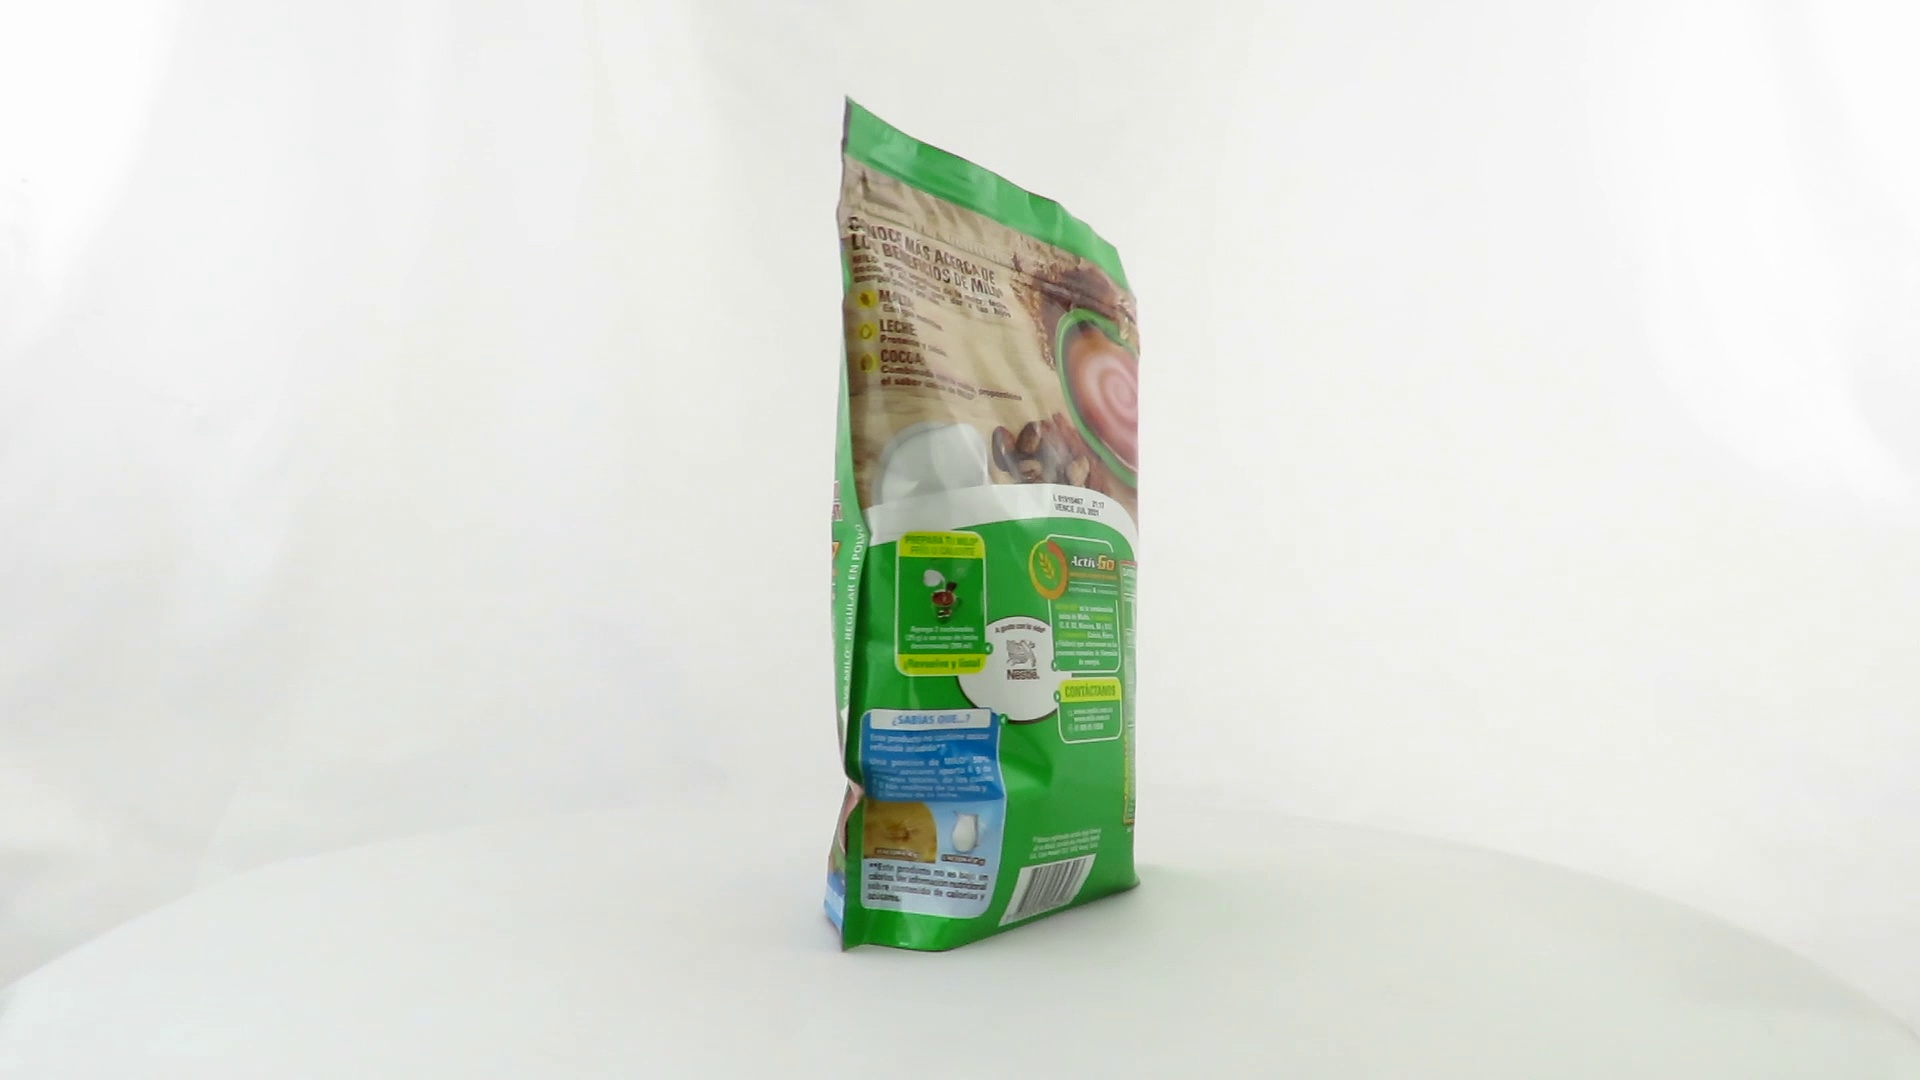COL0170205DYP50000: (818, 90, 1147, 959)
